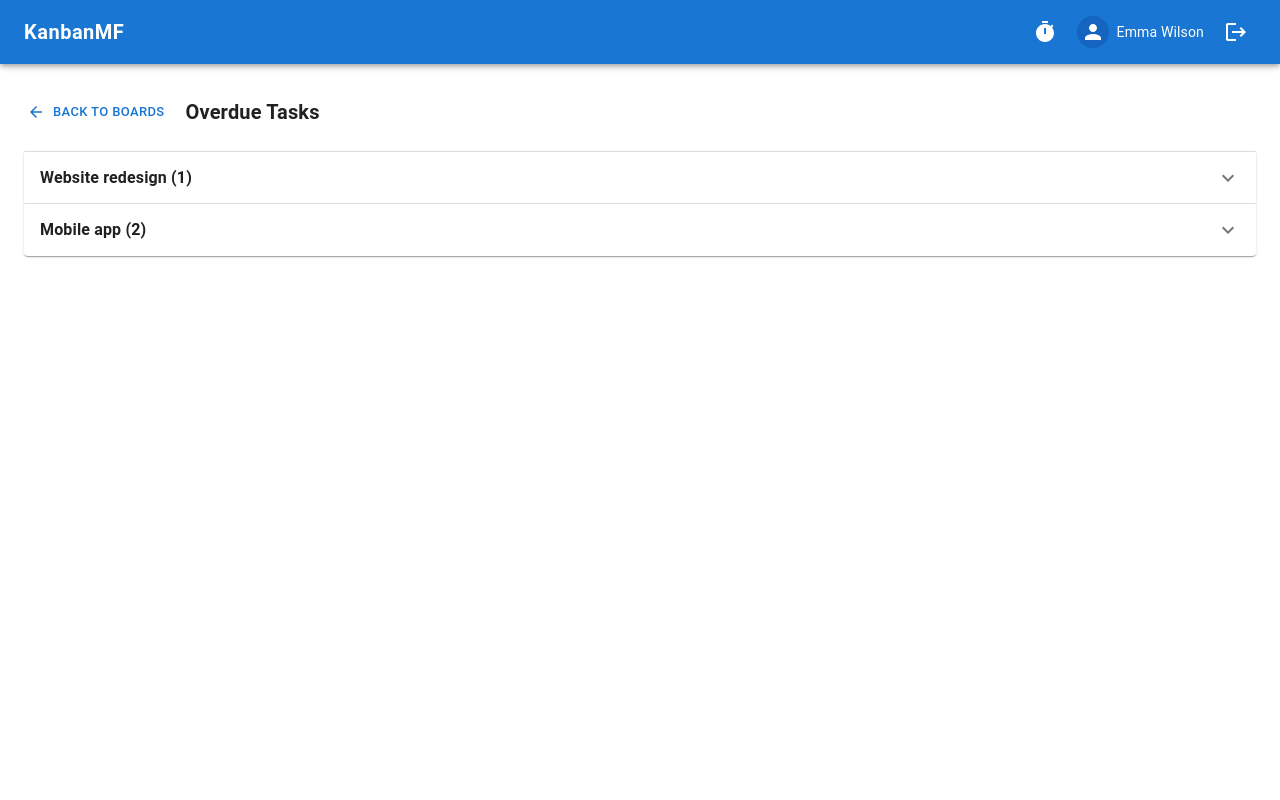
Test case: OverdueTasks › what it shows › folds a board again
Click the button "Mobile app (2)" at (81, 230), box [24, 204, 1256, 256]
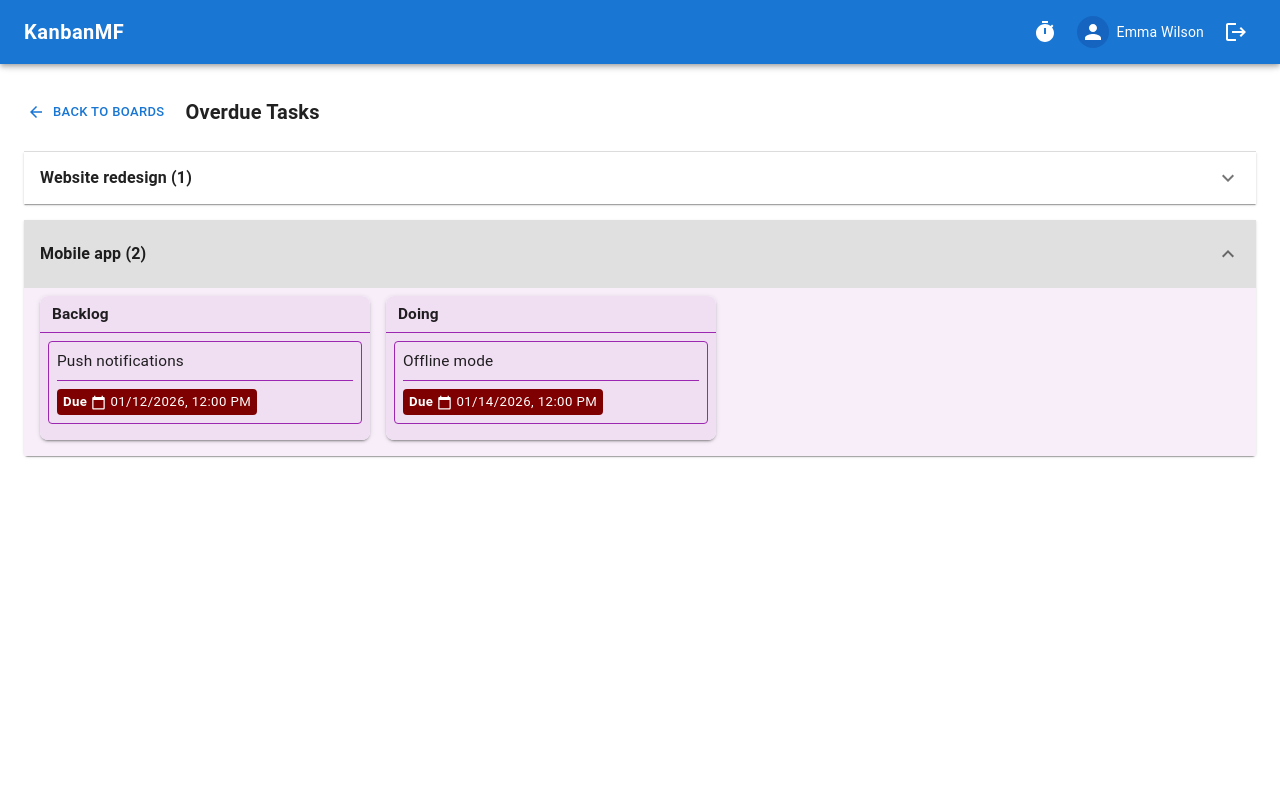
Click the button "Website redesign (1)" at (103, 178), box [24, 152, 1256, 204]
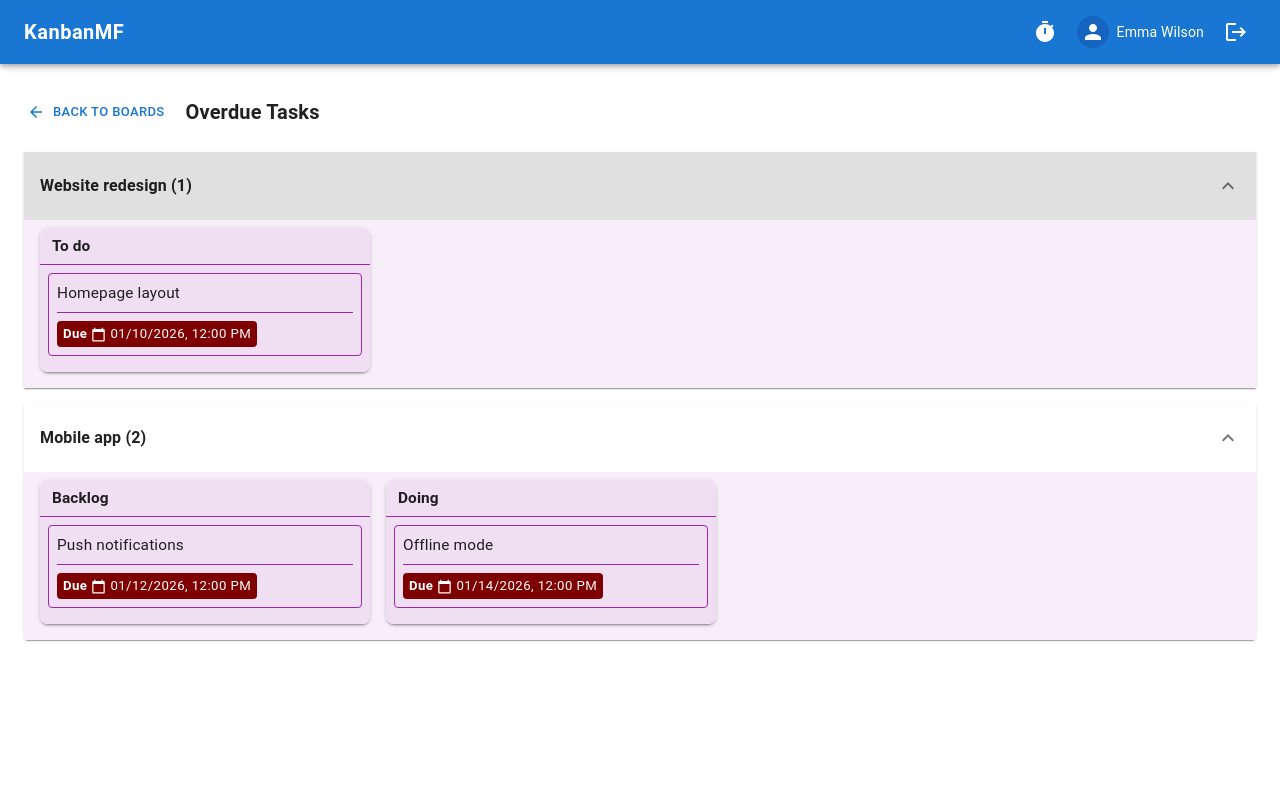
Click the button "Mobile app (2)" at (81, 438), box [24, 404, 1256, 472]
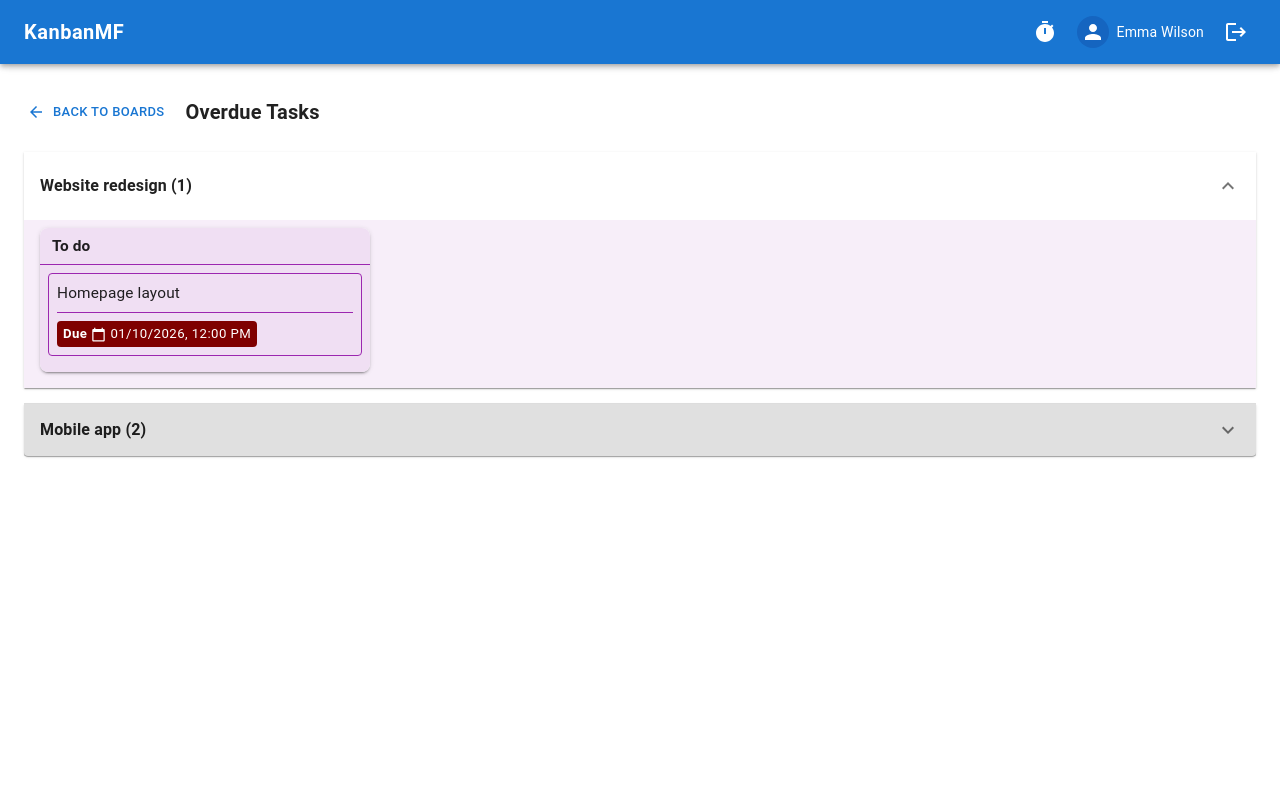
Now the link "Homepage layout Due 01/10/2026, 12:00 PM" is shown, box [49, 274, 361, 355]
Now the button "Mobile app (2)" is collapsed, box [24, 404, 1256, 456]
